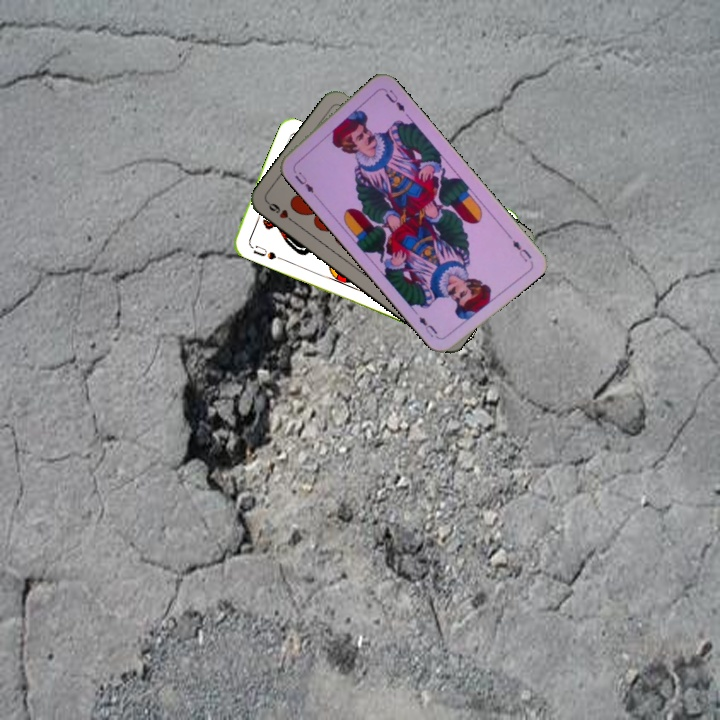EU: (290, 167, 316, 196), (508, 236, 534, 265)
H9: (263, 198, 299, 226)
SU: (249, 241, 284, 262)
